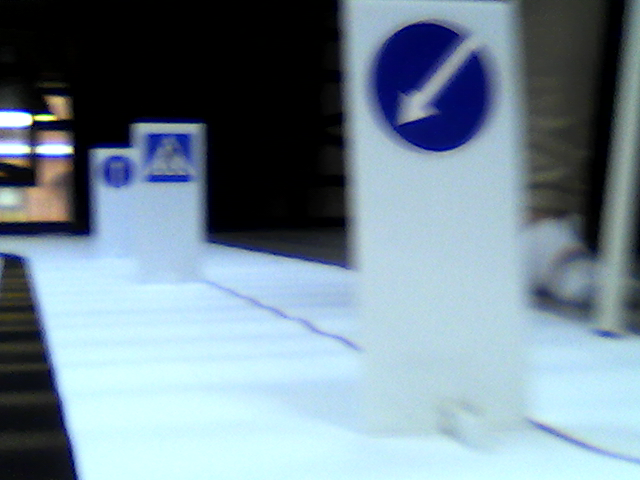prep: (362, 18, 501, 152)
